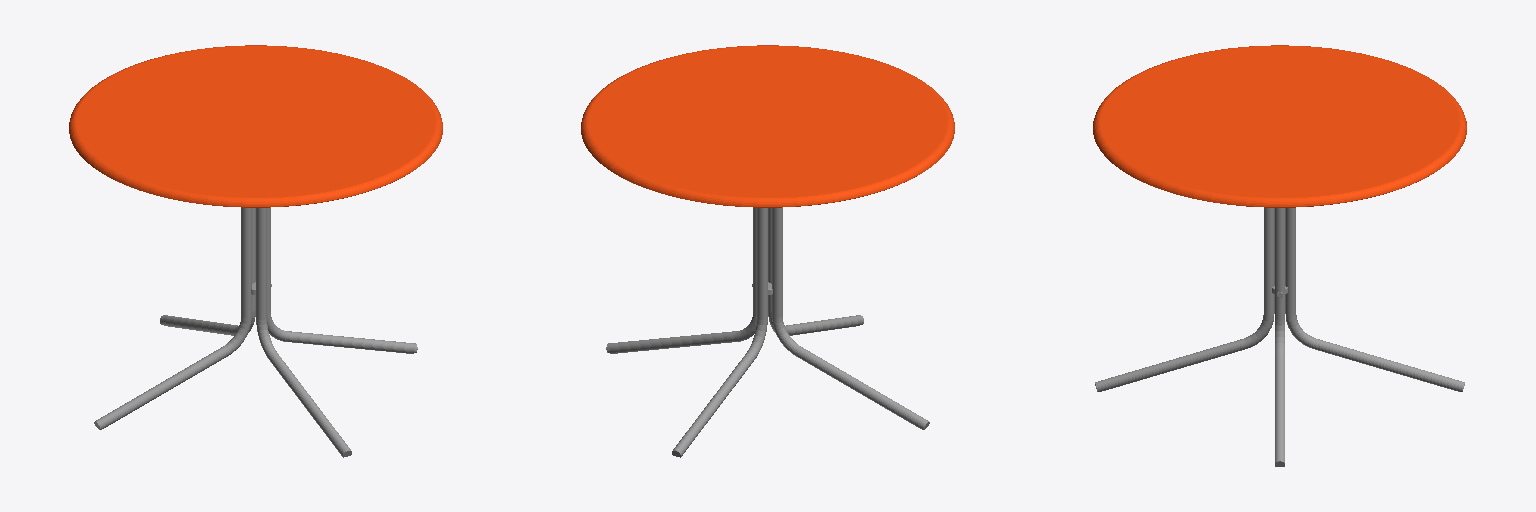
The model's file is 26_Tavolino_Genius_Round_arancione.obj.
The picture shows the model from 3 angles: view 1: azimuth 30°, elevation 25°; view 2: azimuth 150°, elevation 25°; view 3: azimuth 270°, elevation 25°; orthographic projection.
Visible parts, largest first — view 1: 2_2, P4700_LCT4_P4700_LCT4_Metal_Chrome_5_5_5, P4700_LCT1_P4700_LCT1_Metal_Chrome_2_8_8, P4700_LCT3_P4700_LCT3_Metal_Chrome_4_6_6, P4700_LCT0_P4700_LCT0_Metal_Chrome_1_9_9; view 2: 2_2, P4700_LCT4_P4700_LCT4_Metal_Chrome_5_5_5, P4700_LCT0_P4700_LCT0_Metal_Chrome_1_9_9, P4700_LCT3_P4700_LCT3_Metal_Chrome_4_6_6, P4700_LCT1_P4700_LCT1_Metal_Chrome_2_8_8; view 3: 2_2, P4700_LCT1_P4700_LCT1_Metal_Chrome_2_8_8, P4700_LCT0_P4700_LCT0_Metal_Chrome_1_9_9, P4700_LCT3_P4700_LCT3_Metal_Chrome_4_6_6.
Part boxes in pixels (bbox=[...]): 2_2: bbox=[69, 45, 442, 207]; P4700_LCT4_P4700_LCT4_Metal_Chrome_5_5_5: bbox=[94, 207, 251, 429]; P4700_LCT1_P4700_LCT1_Metal_Chrome_2_8_8: bbox=[256, 208, 351, 457]; P4700_LCT3_P4700_LCT3_Metal_Chrome_4_6_6: bbox=[267, 207, 417, 353]; P4700_LCT0_P4700_LCT0_Metal_Chrome_1_9_9: bbox=[160, 208, 255, 335]; 2_2: bbox=[581, 45, 954, 207]; P4700_LCT4_P4700_LCT4_Metal_Chrome_5_5_5: bbox=[772, 207, 929, 429]; P4700_LCT0_P4700_LCT0_Metal_Chrome_1_9_9: bbox=[672, 208, 767, 457]; P4700_LCT3_P4700_LCT3_Metal_Chrome_4_6_6: bbox=[606, 207, 756, 353]; P4700_LCT1_P4700_LCT1_Metal_Chrome_2_8_8: bbox=[768, 208, 863, 335]; 2_2: bbox=[1093, 45, 1466, 207]; P4700_LCT1_P4700_LCT1_Metal_Chrome_2_8_8: bbox=[1095, 208, 1274, 391]; P4700_LCT0_P4700_LCT0_Metal_Chrome_1_9_9: bbox=[1285, 208, 1464, 391]; P4700_LCT3_P4700_LCT3_Metal_Chrome_4_6_6: bbox=[1275, 208, 1284, 466].
Bounding box in the file's own units: 48.1 × 38 × 48.1.